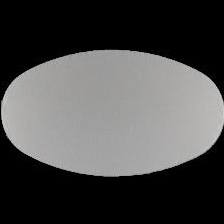42291-295: (0, 0, 224, 224)
